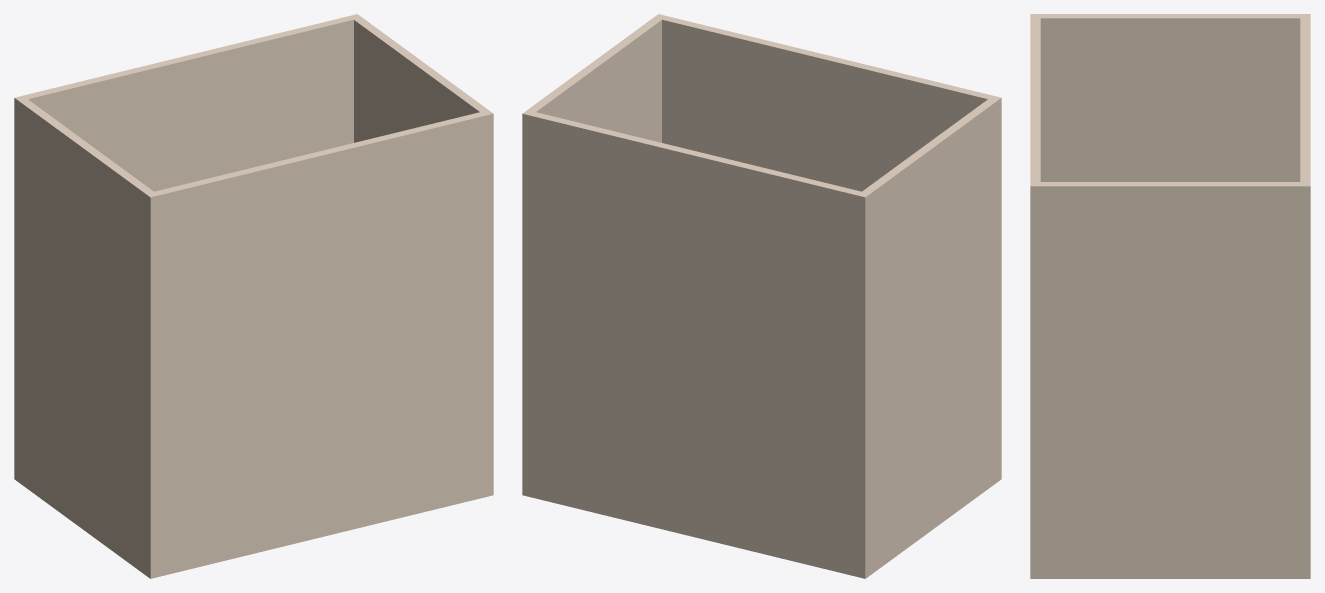
3 views of the same model, side by side, from view 1: azimuth 30°, elevation 25°; view 2: azimuth 150°, elevation 25°; view 3: azimuth 270°, elevation 25° (orthographic). The views are drawn at different scales.
Visible parts, largest first — view 1: world; view 2: world; view 3: world.
Boxes of the visible parts, left/top/right/bottom form: world: left=14, top=14, right=493, bottom=578; world: left=522, top=14, right=1001, bottom=578; world: left=1030, top=14, right=1310, bottom=578.
Bounding box in the file's own units: 0.16 × 0.17 × 0.11.
